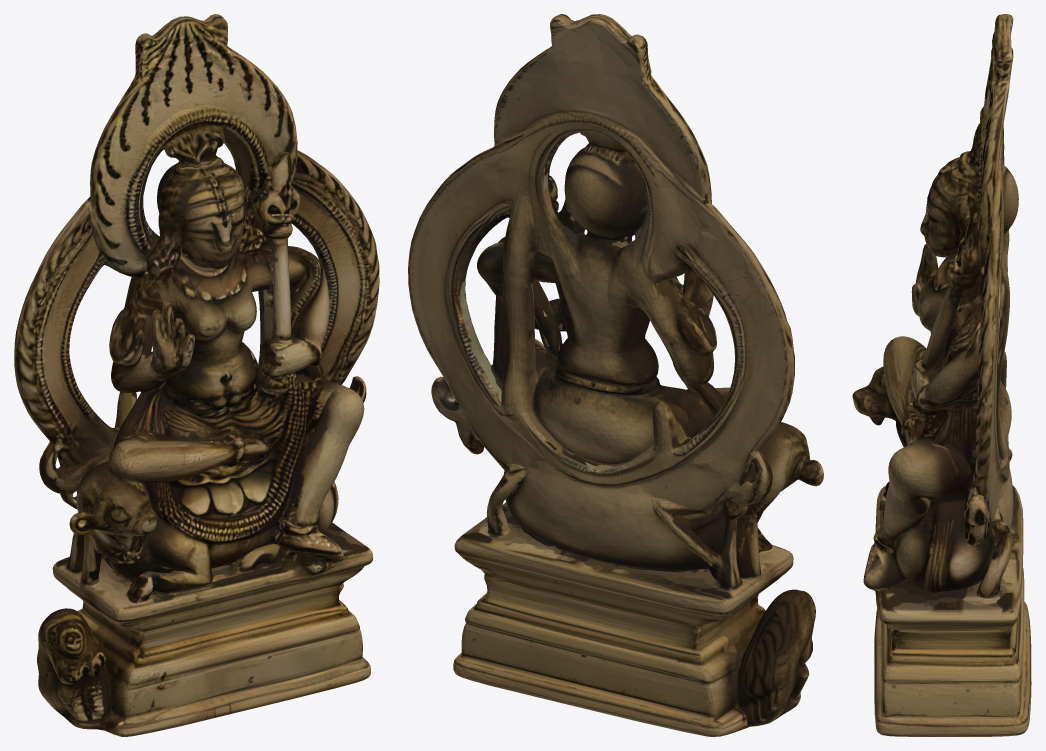
3 renders of one model, left to right at view 1: azimuth 30°, elevation 25°; view 2: azimuth 150°, elevation 25°; view 3: azimuth 270°, elevation 25°, orthographic. The views are drawn at different scales.
Visible parts, largest first — view 1: textured_mesh; view 2: textured_mesh; view 3: textured_mesh.
Boxes of the visible parts, x1,y1,x2,y2 form: textured_mesh: (14, 14, 379, 736); textured_mesh: (408, 14, 823, 736); textured_mesh: (852, 14, 1031, 736).
Size of the model in its own units: 1.17 by 1.99 by 0.4943.
1 material, 1 textured.
